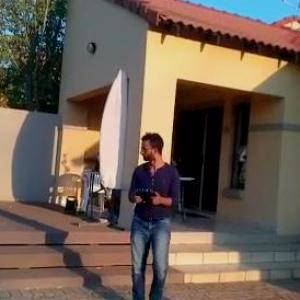follow: (122, 127, 185, 299)
